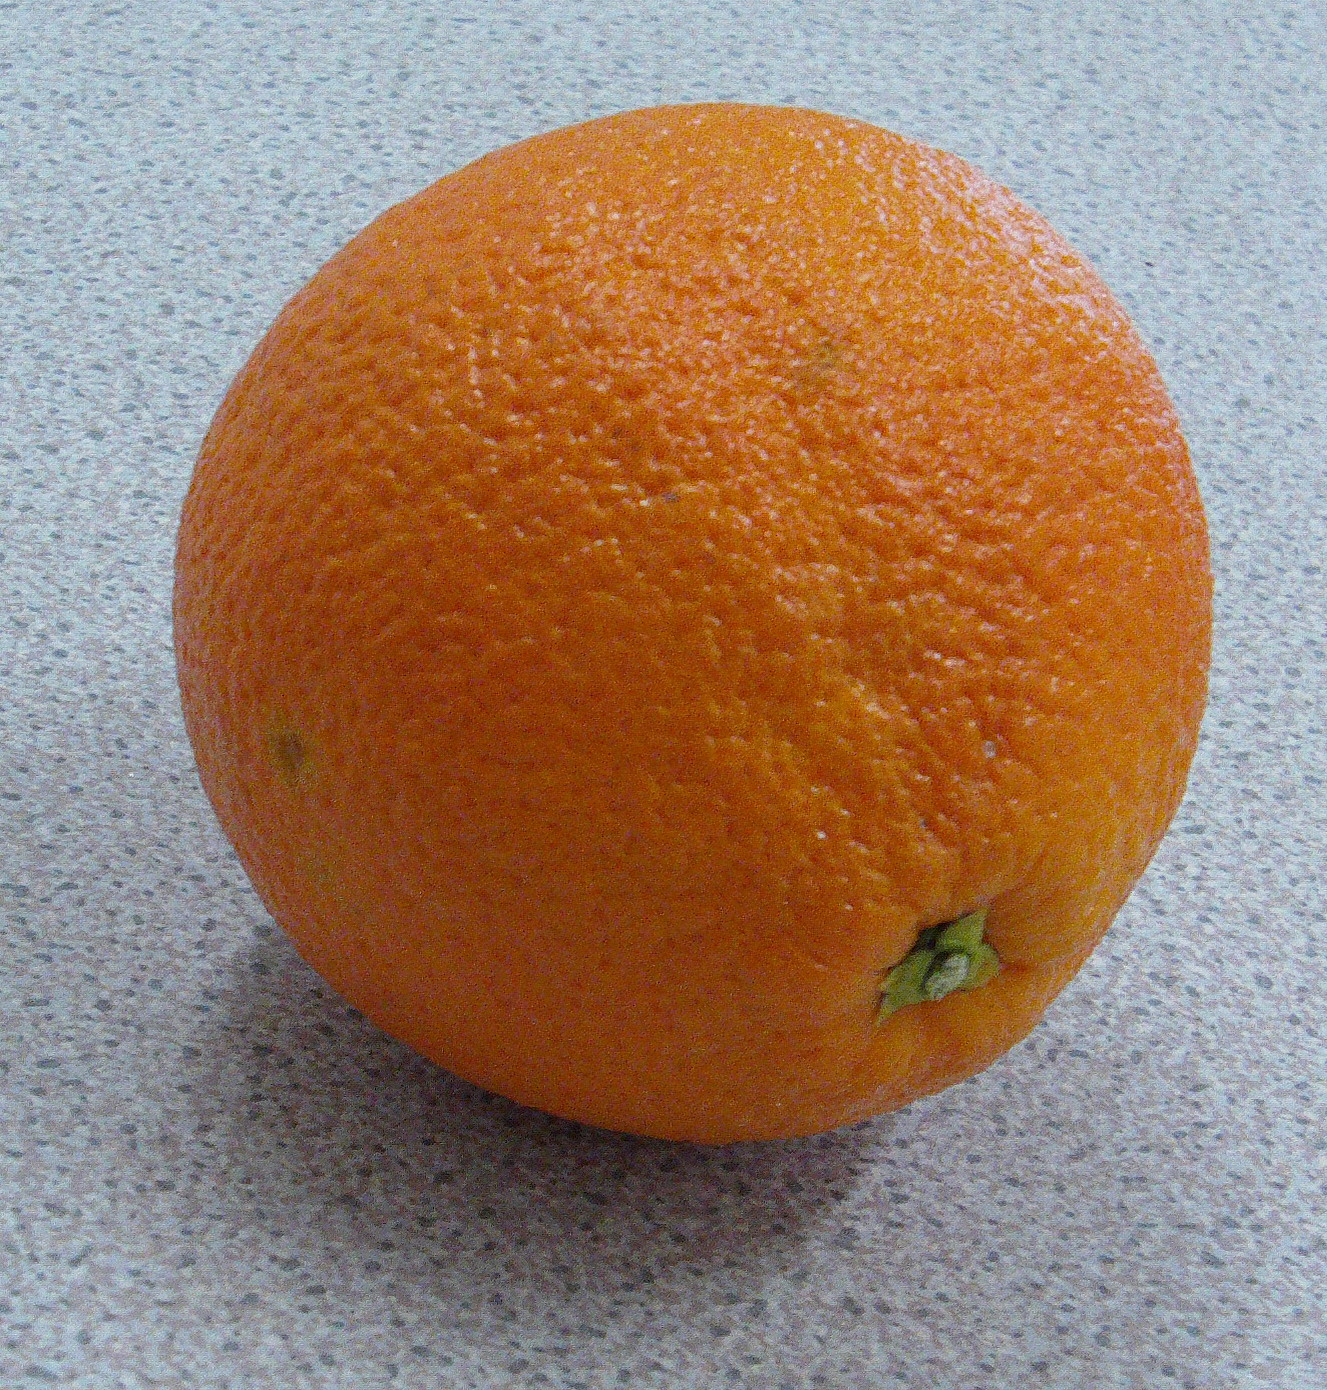Orange: (168, 102, 1213, 1146)
